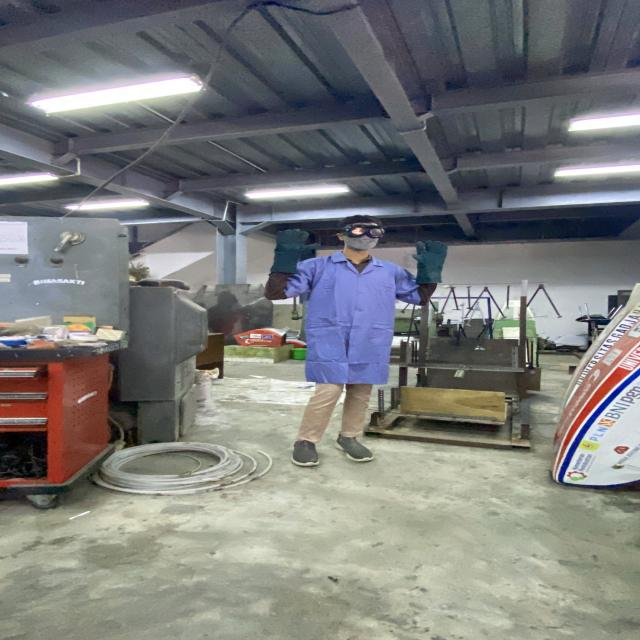glasses: (333, 220, 389, 240)
hand_glove: (265, 223, 325, 262), (404, 236, 461, 269)
head_nohelmet: (336, 210, 386, 231)
person: (245, 209, 460, 475)
shoes: (280, 432, 330, 472), (326, 432, 380, 465)
